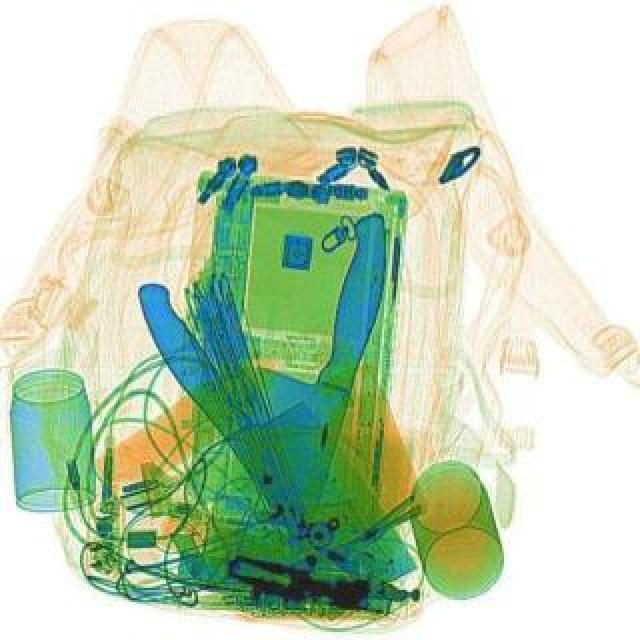knife: (122, 246, 418, 614), (194, 192, 402, 596)
